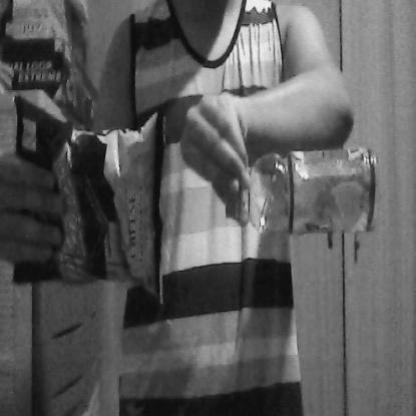Plastic Bottle: (215, 140, 385, 246)
